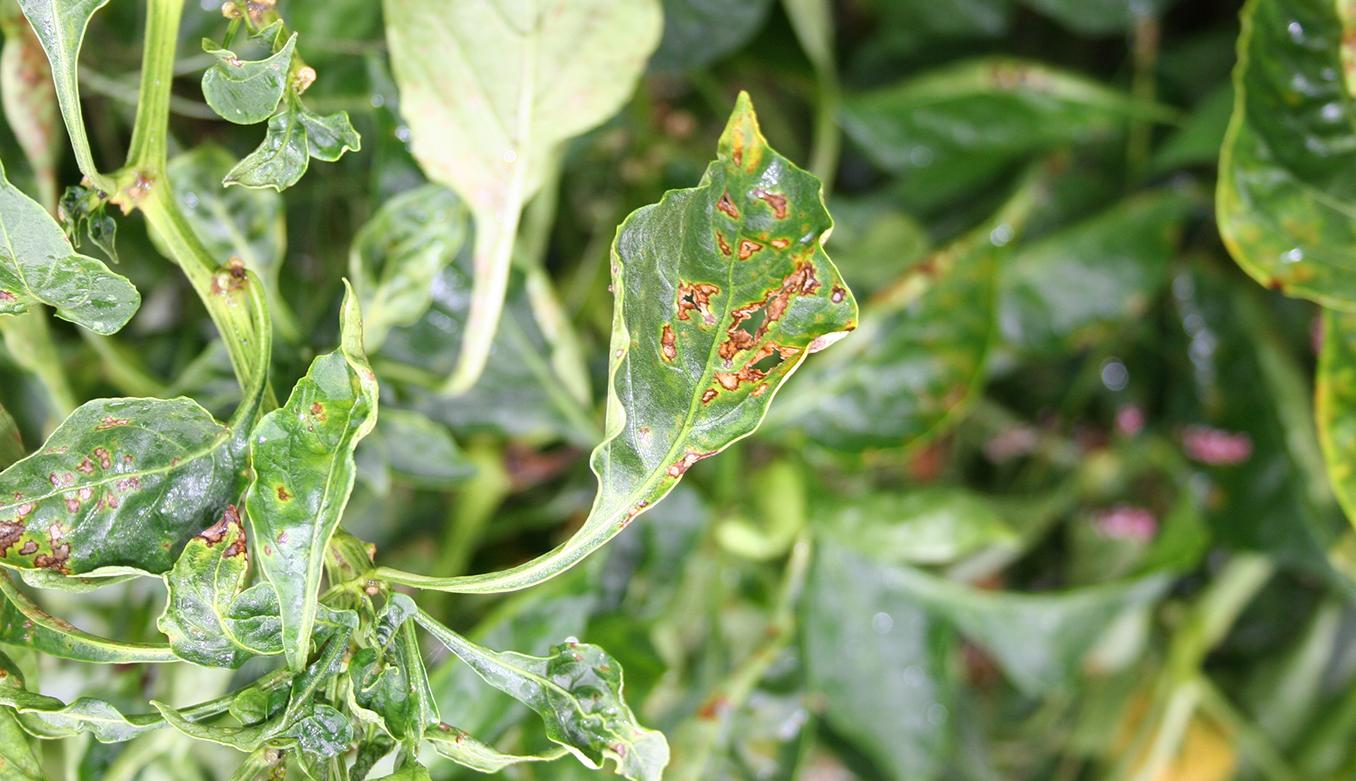Tomato leaf bacterial spot: (538, 86, 881, 559), (1197, 0, 1356, 350), (229, 337, 409, 646), (0, 393, 221, 622)
